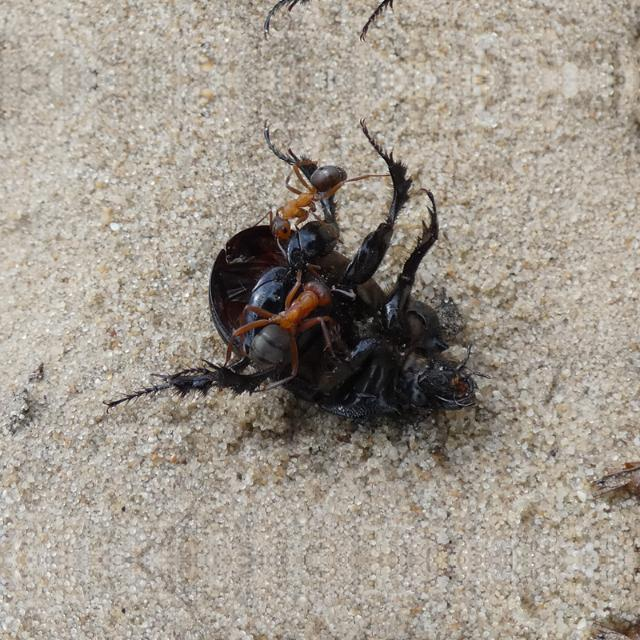Formica: (242, 269, 344, 377), (258, 155, 356, 245)
